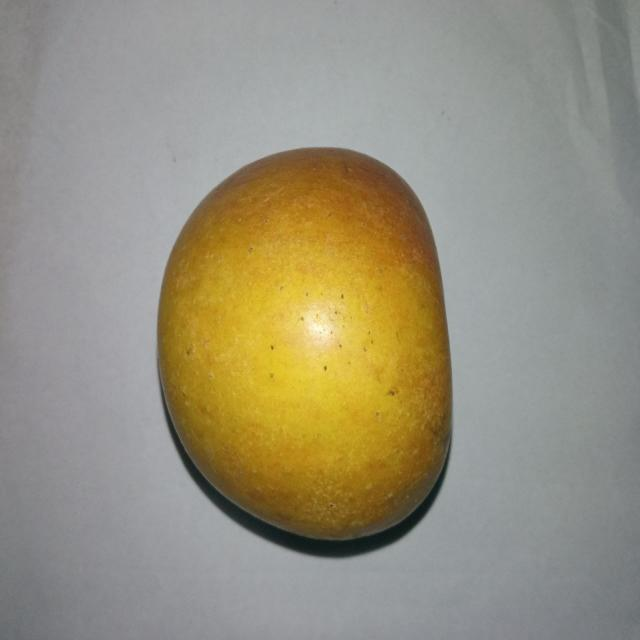fresh_apple: (156, 147, 450, 542)
